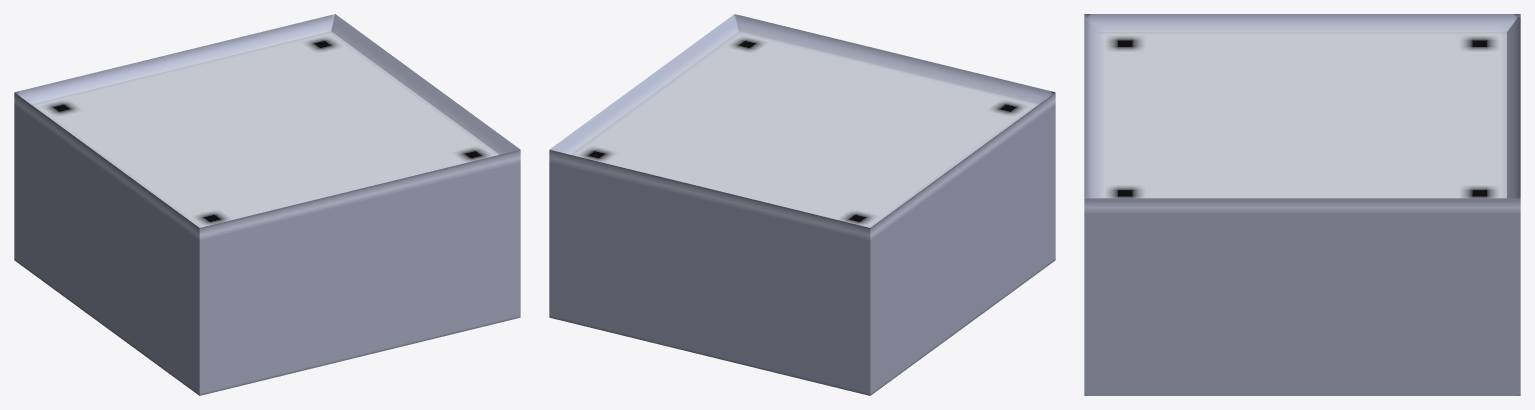
File: Wall.fbx
3 views of the same model, side by side, from view 1: azimuth 30°, elevation 25°; view 2: azimuth 150°, elevation 25°; view 3: azimuth 270°, elevation 25° (orthographic). The views are drawn at different scales.
Parts seen in each view (by area): view 1: Wall; view 2: Wall; view 3: Wall.
Part boxes in pixels (x1,y1,x2,y2): Wall: (14,14,520,395); Wall: (549,14,1055,395); Wall: (1084,14,1520,395).
Size of the model in its own units: 1 by 0.5 by 1.
1 material, 1 textured.
